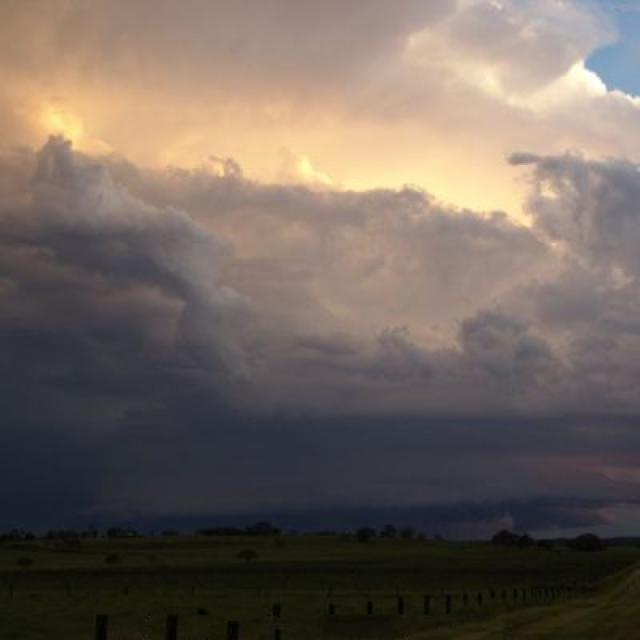Cb: (1, 64, 640, 475)
